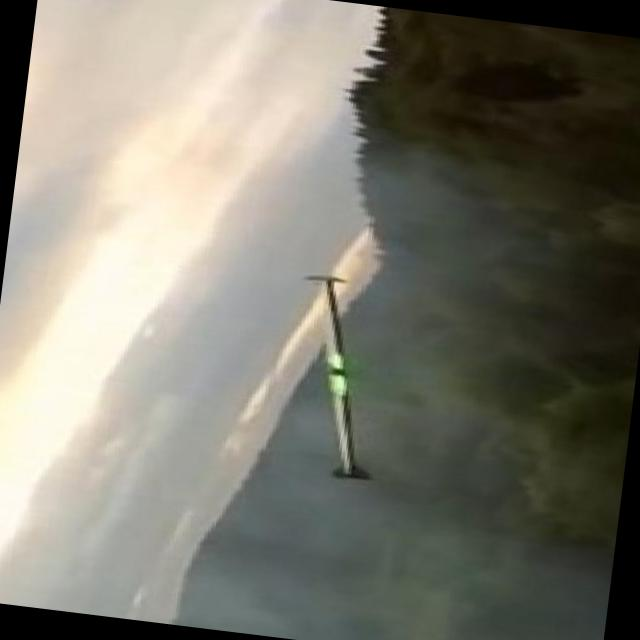UAV: (278, 264, 416, 488)
